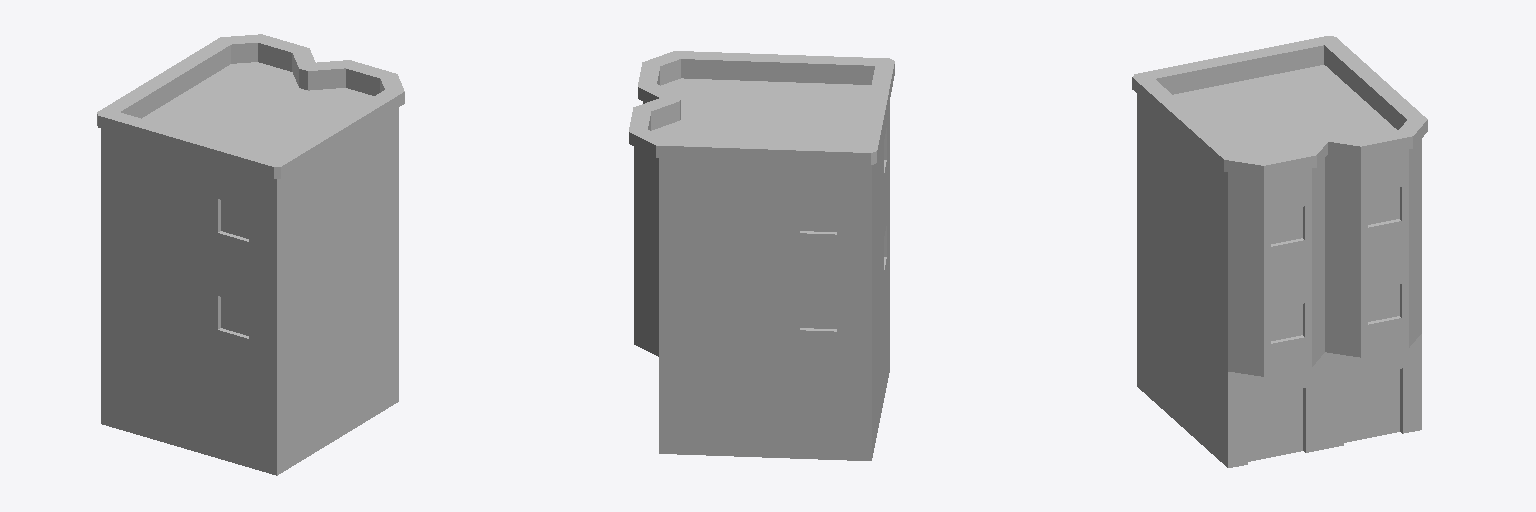
File: variant_41.obj
3 views of the same model, side by side, from view 1: azimuth 30°, elevation 25°; view 2: azimuth 150°, elevation 25°; view 3: azimuth 270°, elevation 25° (orthographic).
Parts seen in each view (by area): view 1: small_buildingA; view 2: small_buildingA; view 3: small_buildingA.
Boxes of the visible parts, box(x1,y1,x2,y2) form: small_buildingA: box(97, 34, 404, 475); small_buildingA: box(629, 51, 894, 460); small_buildingA: box(1132, 36, 1427, 467).
Size of the model in its own units: 1.15 by 1.28 by 1.1.